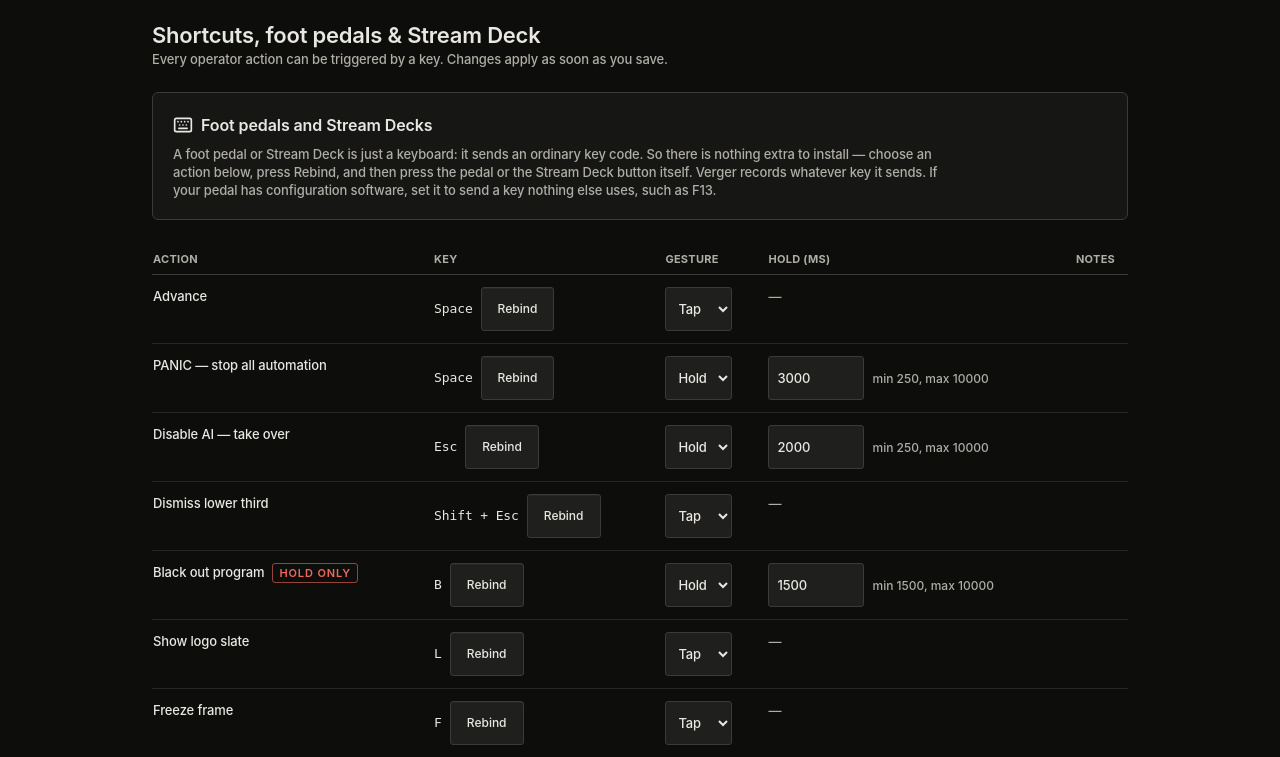
it: ShortcutSettings › the v2 regression guard › warns on the row itself, before the operator even presses Save
Select "Tap" in the dropdown named "gesture for black out program" in the row of "Black out program": (699, 585) x1=665 y1=563 x2=732 y2=607
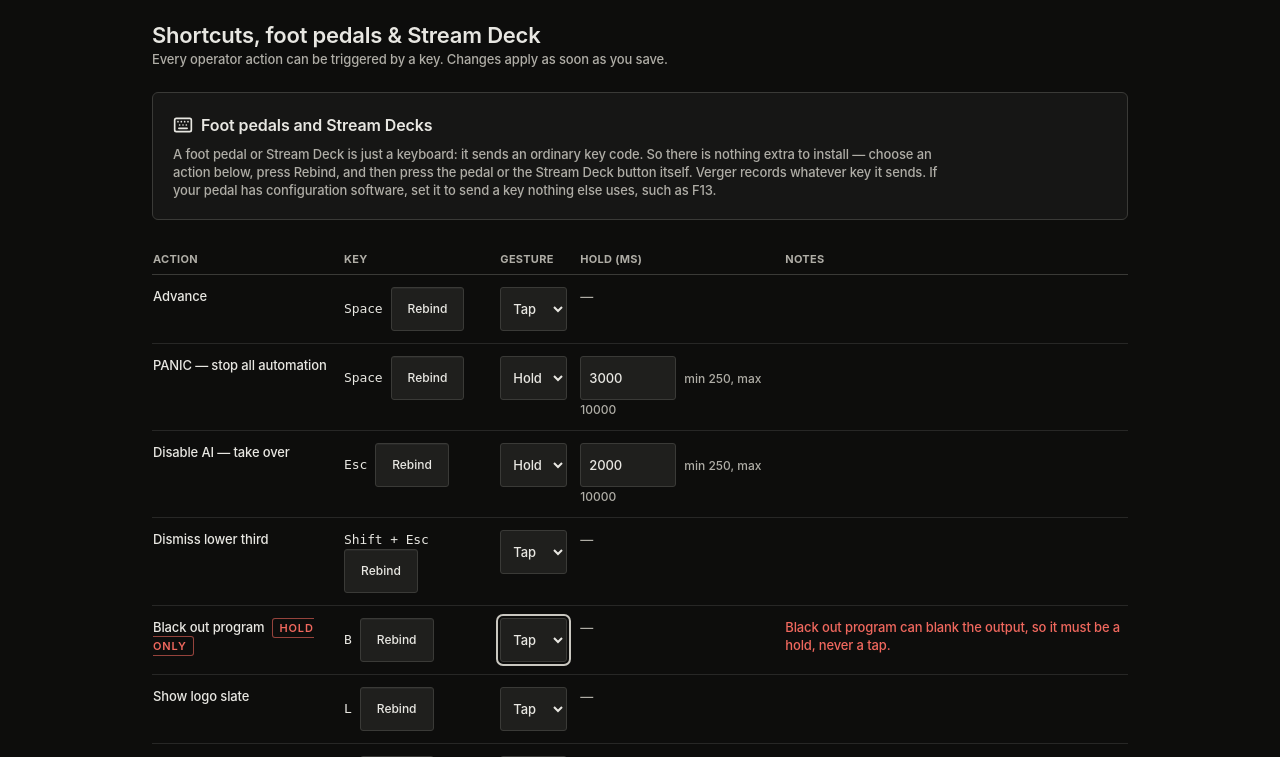
expect the text "never a tap" is shown: met, box x1=785 y1=619 x2=1120 y2=653
